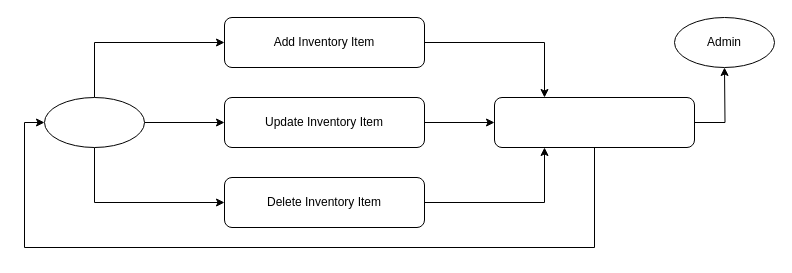
The diagram is 792 pixels wide and 273 high, and some of its shapes have lost their labels. The shapes that lost their labels are listed below. From the top down, each one's centre as x and y in pixels, then its label:
At point 94,122: "Cook".
At point 594,122: "View Inventory Items".
